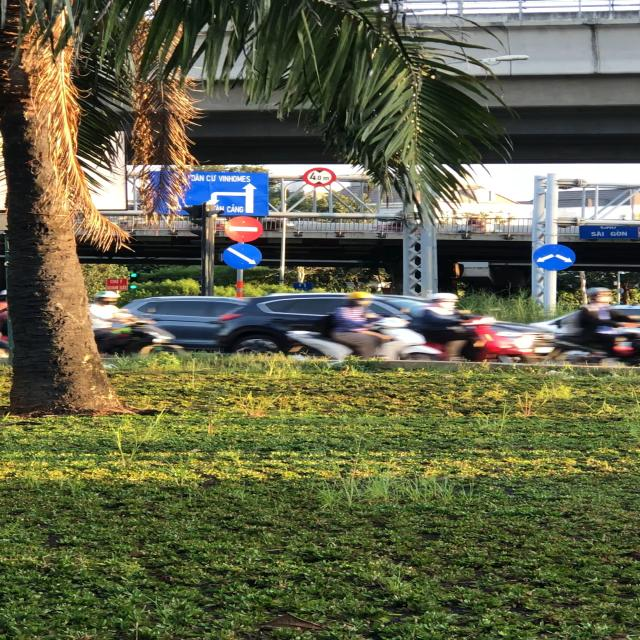Bien bao cam di nguoc chieu: (222, 214, 272, 243)
Bien bao han che chieu cao: (304, 167, 342, 189)
Bien bao huong phai di vong chuong ngai vat: (532, 243, 578, 272), (222, 243, 267, 269)
